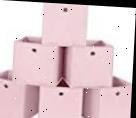cube: (14, 35, 63, 86), (67, 38, 116, 87), (41, 2, 90, 46), (0, 68, 42, 118), (38, 84, 86, 118)
